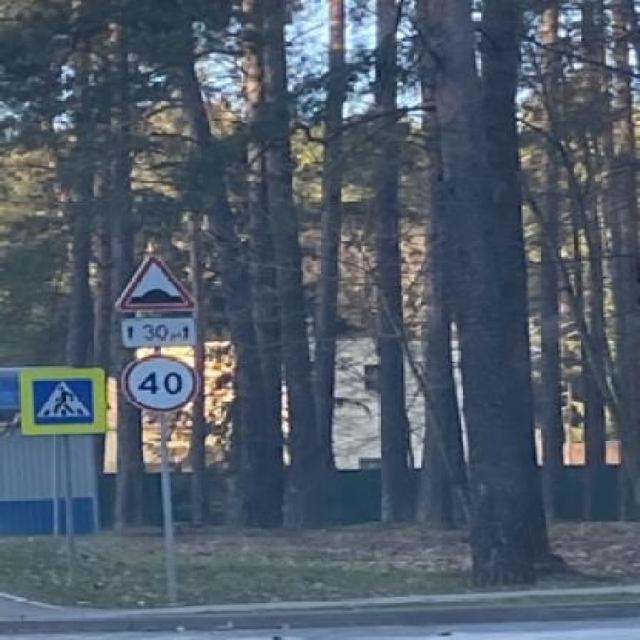forb_speed_over_40: (120, 355, 203, 413)
